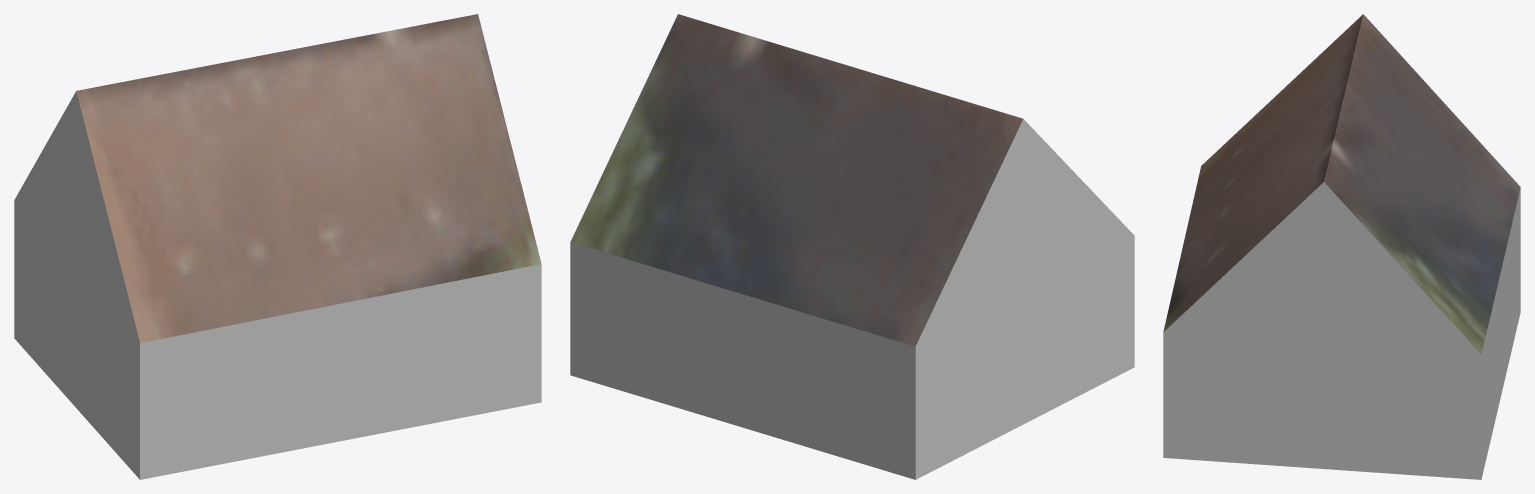
The model's file is DEBW_0010007Tx9I.gltf.
3 renders of one model, left to right at view 1: azimuth 30°, elevation 25°; view 2: azimuth 150°, elevation 25°; view 3: azimuth 270°, elevation 25°, orthographic. The views are drawn at different scales.
Parts seen in each view (by area): view 1: Z_UP; view 2: Z_UP; view 3: Z_UP.
Boxes of the visible parts, x1=… form: Z_UP: x1=14, y1=14, x2=541, y2=479; Z_UP: x1=570, y1=14, x2=1134, y2=479; Z_UP: x1=1163, y1=14, x2=1520, y2=479.
Bounding box in the file's own units: 16.62 × 11.7 × 13.2.
2 materials, 1 textured.
